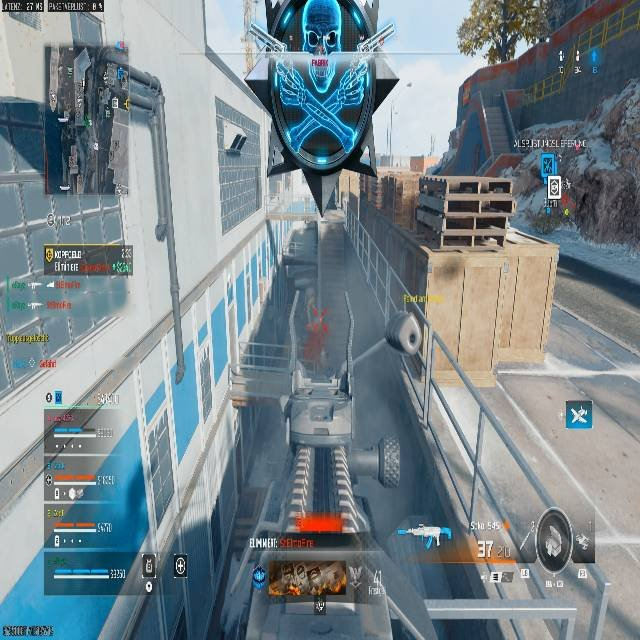player: (500, 508, 615, 635)
